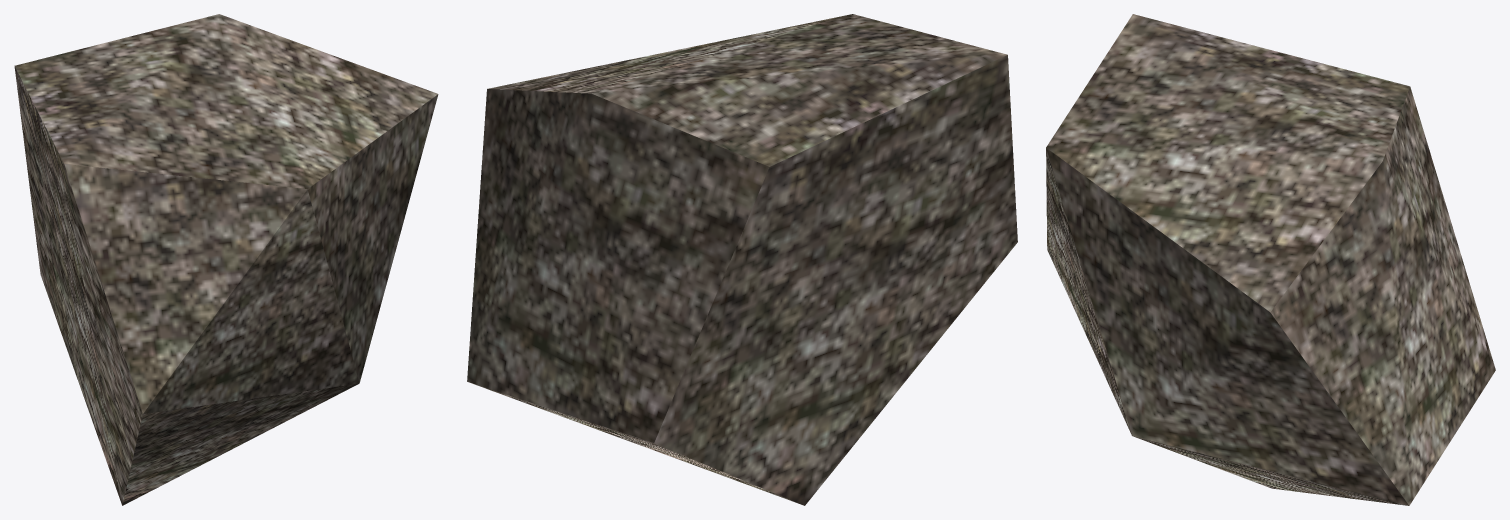
The model's file is RockParticle1.gltf.
The picture shows the model from 3 angles, left to right: view 1: azimuth 30°, elevation 25°; view 2: azimuth 150°, elevation 25°; view 3: azimuth 270°, elevation 25°; orthographic projection. The views are drawn at different scales.
Parts seen in each view (by area): view 1: RockParticle1Mesh; view 2: RockParticle1Mesh; view 3: RockParticle1Mesh.
Part boxes in pixels (x1,y1,x2,y2): RockParticle1Mesh: (14,14,438,505); RockParticle1Mesh: (467,14,1017,505); RockParticle1Mesh: (1046,14,1495,505).
Size of the model in its own units: 0.4432 by 0.4054 by 0.4.
1 material, 1 textured.
